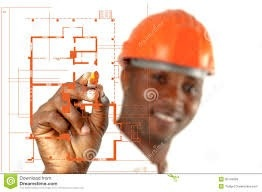helmet: (115, 6, 219, 80)
person with partial safety: (108, 1, 221, 173)
